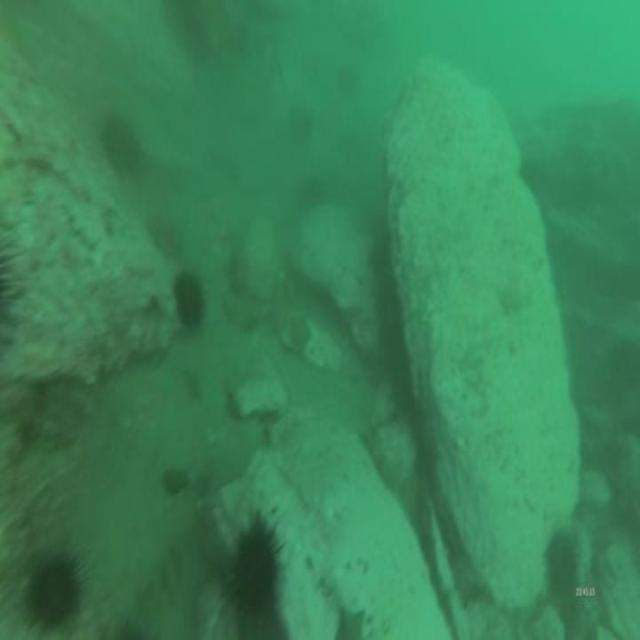echinus: (225, 514, 287, 621), (23, 540, 85, 636), (540, 523, 582, 608), (99, 111, 145, 177), (169, 265, 210, 335), (286, 100, 316, 152), (296, 171, 329, 213), (334, 61, 358, 102)
